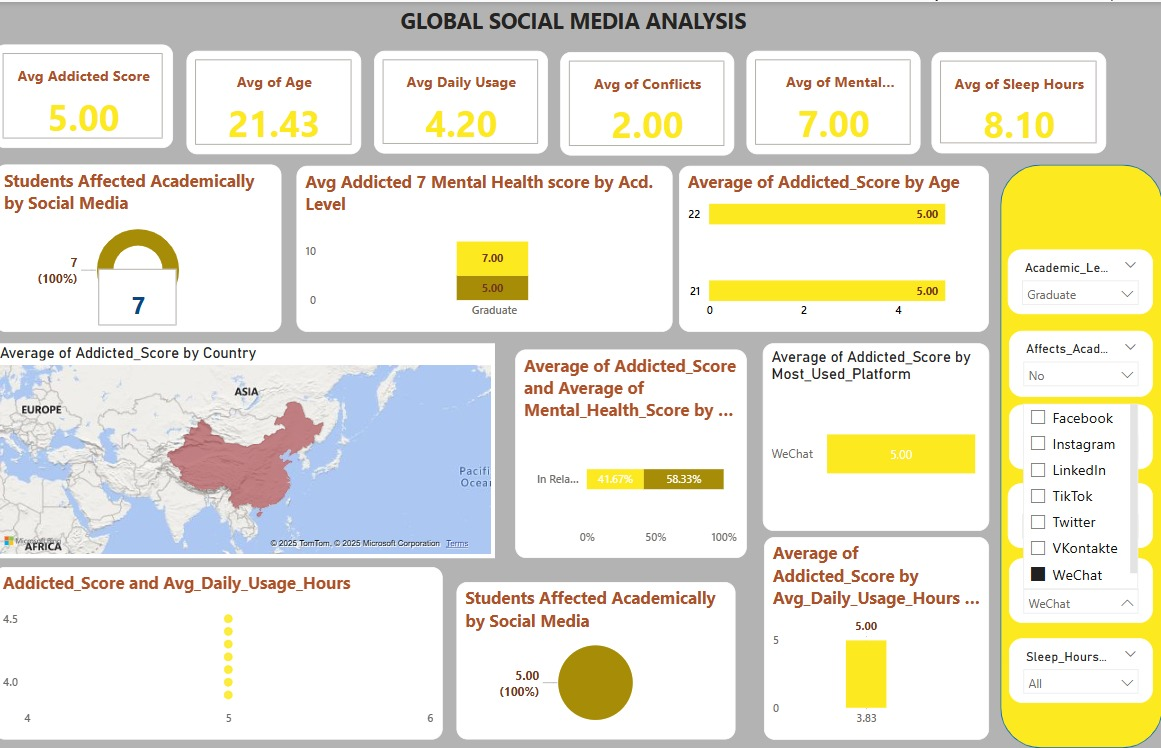

The page's visual inventory and layout, read from the dashboard file:
{"tool":"powerbi","page":{"name":"Global Analysis","canvas":[1300,830],"ordinal":0},"visuals":[{"type":"shape","box":[1119.6,180.8,180.8,649.5],"z":0},{"type":"cardVisual","fields":{"Data":["Avg(Students Social Media Addiction.Addicted_Score)"]},"box":[0,47.3,198.9,115.4],"z":1000},{"type":"cardVisual","fields":{"Data":["Avg(Students Social Media Addiction.Age)"]},"box":[214.2,54.2,194.7,115.4],"z":2000},{"type":"cardVisual","fields":{"Data":["Avg(Students Social Media Addiction.Avg_Daily_Usage_Hours)"]},"box":[422.8,54.2,193.3,114],"z":3000},{"type":"cardVisual","fields":{"Data":["Avg(Students Social Media Addiction.Conflicts_Over_Social_Media)"]},"box":[630,55.6,193.3,115.4],"z":4000},{"type":"cardVisual","fields":{"Data":["Avg(Students Social Media Addiction.Mental_Health_Score)"]},"box":[837.2,54.2,193.3,115.4],"z":5000},{"type":"cardVisual","fields":{"Data":["Avg(Students Social Media Addiction.Sleep_Hours_Per_Night)"]},"box":[1043.1,55.6,194.7,112.7],"z":6000},{"type":"columnChart","title":"Avg Addicted 7 Mental Health score by Acd. Level","fields":{"Category":["Students Social Media Addiction.Academic_Level"],"Y":["Avg(Students Social Media Addiction.Addicted_Score)","Avg(Students Social Media Addiction.Mental_Health_Score)"]},"box":[336.6,182.2,418.6,185],"z":7000},{"type":"donutChart","title":"Students Affected Academically by Social Media","fields":{"Category":["Students Social Media Addiction.Affects_Academic_Performance"],"Y":["CountNonNull(Students Social Media Addiction.Student_ID)"]},"box":[1.4,180.8,318.5,186.4],"z":8000},{"type":"cardVisual","fields":{"Data":["Count(Students Social Media Addiction.Student_ID)"]},"box":[100.1,292.1,97.4,75.1],"z":9000},{"type":"clusteredBarChart","fields":{"Category":["Students Social Media Addiction.Age"],"Y":["Avg(Students Social Media Addiction.Addicted_Score)"]},"box":[762.1,182.2,344.9,185],"z":10000},{"type":"slicer","fields":{"Values":["Students Social Media Addiction.Academic_Level"]},"box":[1127.9,275.4,161.3,72.3],"z":11000},{"type":"slicer","fields":{"Values":["Students Social Media Addiction.Affects_Academic_Performance"]},"box":[1129.3,365.8,159.9,73.7],"z":12000},{"type":"slicer","fields":{"Values":["Students Social Media Addiction.Country"]},"box":[1129.3,447.8,159.9,72.3],"z":13000},{"type":"slicer","fields":{"Values":["Students Social Media Addiction.Gender"]},"box":[1127.9,535.4,161.3,72.3],"z":14000},{"type":"slicer","fields":{"Values":["Students Social Media Addiction.Most_Used_Platform"]},"box":[1129.3,618.9,159.9,72.3],"z":15000},{"type":"filledMap","fields":{"Category":["Students Social Media Addiction.Country"]},"box":[1.4,379.7,556.3,239.2],"z":16000},{"type":"pieChart","title":"Students Affected Academically by Social Media","fields":{"Category":["Students Social Media Addiction.Gender"],"Y":["Avg(Students Social Media Addiction.Addicted_Score)"]},"box":[514.6,645.3,310.1,175.2],"z":17000},{"type":"funnel","fields":{"Category":["Students Social Media Addiction.Most_Used_Platform"],"Y":["Avg(Students Social Media Addiction.Addicted_Score)"]},"box":[855.3,379.7,251.7,208.6],"z":18000},{"type":"hundredPercentStackedBarChart","fields":{"Category":["Students Social Media Addiction.Relationship_Status"],"Y":["Avg(Students Social Media Addiction.Addicted_Score)","Avg(Students Social Media Addiction.Mental_Health_Score)"]},"box":[579.9,386.6,257.3,232.3],"z":19000},{"type":"lineStackedColumnComboChart","fields":{"Y":["Avg(Students Social Media Addiction.Addicted_Score)"],"Category":["Students Social Media Addiction.Avg_Daily_Usage_Hours (bins)"]},"box":[856.7,595.2,250.3,225.3],"z":20000},{"type":"scatterChart","fields":{"X":["Students Social Media Addiction.Addicted_Score"],"Y":["Students Social Media Addiction.Avg_Daily_Usage_Hours"]},"box":[0,628.6,499.3,191.9],"z":21000},{"type":"textbox","box":[0,0,1289.2,47.3],"z":22000},{"type":"slicer","fields":{"Values":["Students Social Media Addiction.Sleep_Hours_Per_Night"]},"box":[1129.3,707.9,159.9,72.3],"z":23000}]}

Visuals, with their boxes in screenshot pixels (x1, y1, x2, y2), scaled from the page's 1300x830 canvas onto the 1161x748 screenshot:
shape: <box>1000,163,1160,747</box>
cardVisual - Avg(Students Social Media Addiction.Addicted_Score): <box>0,43,178,147</box>
cardVisual - Avg(Students Social Media Addiction.Age): <box>191,49,365,153</box>
cardVisual - Avg(Students Social Media Addiction.Avg_Daily_Usage_Hours): <box>378,49,550,152</box>
cardVisual - Avg(Students Social Media Addiction.Conflicts_Over_Social_Media): <box>563,50,735,154</box>
cardVisual - Avg(Students Social Media Addiction.Mental_Health_Score): <box>748,49,920,153</box>
cardVisual - Avg(Students Social Media Addiction.Sleep_Hours_Per_Night): <box>932,50,1105,152</box>
"Avg Addicted 7 Mental Health score by Acd. Level" columnChart: <box>301,164,674,331</box>
"Students Affected Academically by Social Media" donutChart: <box>1,163,286,331</box>
cardVisual - Count(Students Social Media Addiction.Student_ID): <box>89,263,176,331</box>
clusteredBarChart - Students Social Media Addiction.Age x Avg(Students Social Media Addiction.Addicted_Score): <box>681,164,989,331</box>
slicer - Students Social Media Addiction.Academic_Level: <box>1007,248,1151,313</box>
slicer - Students Social Media Addiction.Affects_Academic_Performance: <box>1009,330,1151,396</box>
slicer - Students Social Media Addiction.Country: <box>1009,404,1151,469</box>
slicer - Students Social Media Addiction.Gender: <box>1007,483,1151,548</box>
slicer - Students Social Media Addiction.Most_Used_Platform: <box>1009,558,1151,623</box>
filledMap - Students Social Media Addiction.Country: <box>1,342,498,558</box>
"Students Affected Academically by Social Media" pieChart: <box>460,582,737,739</box>
funnel - Students Social Media Addiction.Most_Used_Platform x Avg(Students Social Media Addiction.Addicted_Score): <box>764,342,989,530</box>
hundredPercentStackedBarChart - Students Social Media Addiction.Relationship_Status x Avg(Students Social Media Addiction.Addicted_Score): <box>518,348,748,558</box>
lineStackedColumnComboChart - Avg(Students Social Media Addiction.Addicted_Score) x Students Social Media Addiction.Avg_Daily_Usage_Hours (bins): <box>765,536,989,739</box>
scatterChart - Students Social Media Addiction.Addicted_Score x Students Social Media Addiction.Avg_Daily_Usage_Hours: <box>0,566,446,739</box>
textbox: <box>0,0,1151,43</box>
slicer - Students Social Media Addiction.Sleep_Hours_Per_Night: <box>1009,638,1151,703</box>
